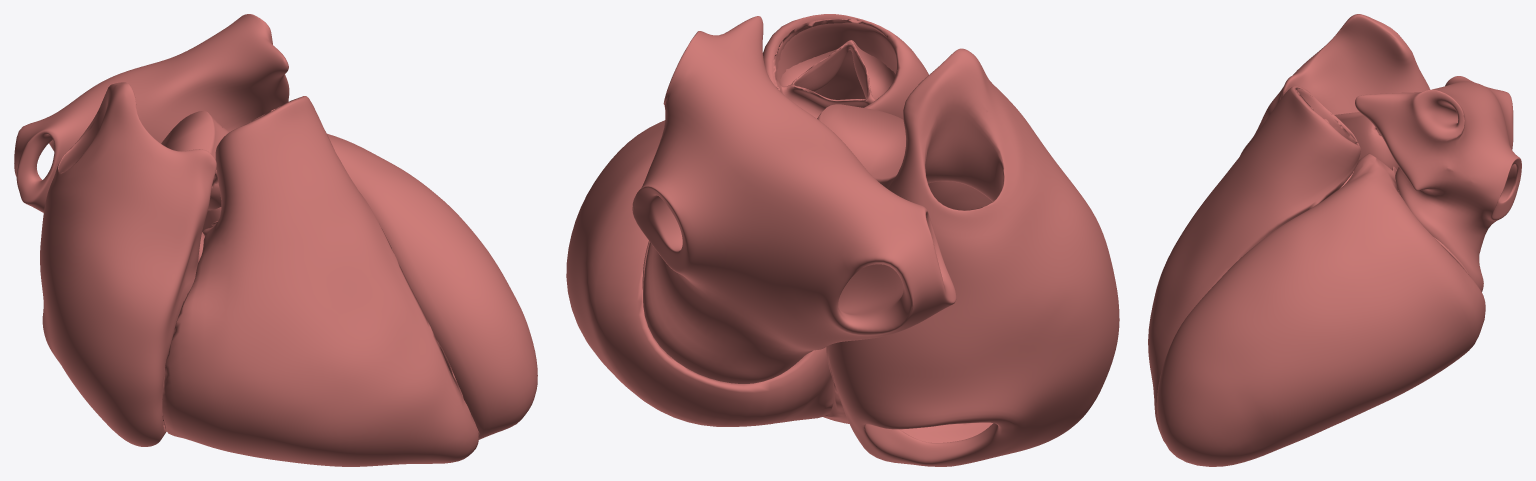
The picture shows the model from 3 angles, left to right: view 1: azimuth 30°, elevation 25°; view 2: azimuth 150°, elevation 25°; view 3: azimuth 270°, elevation 25°; orthographic projection. The views are drawn at different scales.
Visible parts, largest first — view 1: VH_M_heart_right_ventricle, VH_M_right_cardiac_atrium, VH_M_heart_left_ventricle, VH_M_left_cardiac_atrium, VH_M_aortic_valve; view 2: VH_M_left_cardiac_atrium, VH_M_right_cardiac_atrium, VH_M_heart_left_ventricle, VH_M_heart_right_ventricle, VH_M_pulmonary_valve, VH_M_aortic_valve; view 3: VH_M_heart_left_ventricle, VH_M_heart_right_ventricle, VH_M_left_cardiac_atrium, VH_M_right_cardiac_atrium, VH_M_aortic_valve.
Part boxes in pixels (<box>): VH_M_heart_right_ventricle: <box>162,96,478,466</box>; VH_M_right_cardiac_atrium: <box>40,82,216,446</box>; VH_M_heart_left_ventricle: <box>202,133,537,439</box>; VH_M_left_cardiac_atrium: <box>14,14,289,212</box>; VH_M_aortic_valve: <box>161,111,229,210</box>; VH_M_left_cardiac_atrium: <box>632,16,956,383</box>; VH_M_right_cardiac_atrium: <box>826,48,1119,466</box>; VH_M_heart_left_ventricle: <box>566,120,833,426</box>; VH_M_heart_right_ventricle: <box>763,14,928,423</box>; VH_M_pulmonary_valve: <box>773,19,895,118</box>; VH_M_aortic_valve: <box>817,104,905,188</box>; VH_M_heart_left_ventricle: <box>1156,153,1485,466</box>; VH_M_heart_right_ventricle: <box>1148,86,1360,442</box>; VH_M_left_cardiac_atrium: <box>1355,76,1521,291</box>; VH_M_right_cardiac_atrium: <box>1240,14,1429,155</box>; VH_M_aortic_valve: <box>1334,112,1398,169</box>.
Bounding box in the file's own units: 0.1244 × 0.1054 × 0.1052.
